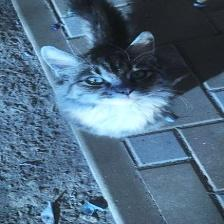kedo: (40, 0, 176, 137)
